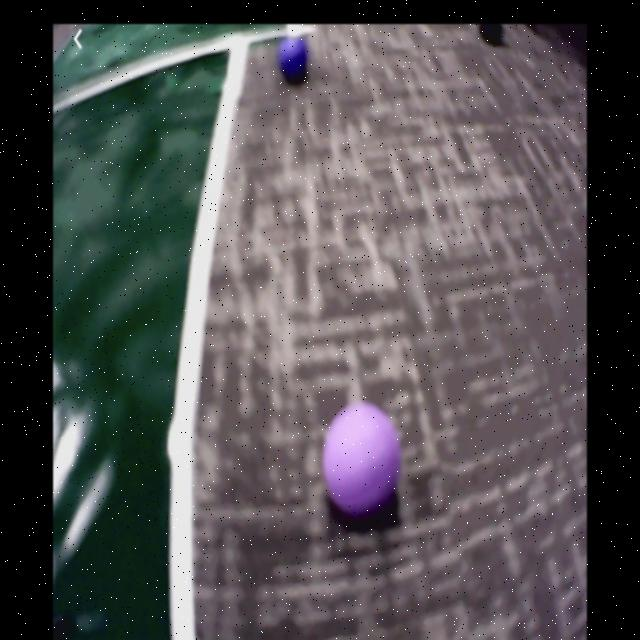ball: (325, 404, 401, 512), (278, 39, 310, 82)
